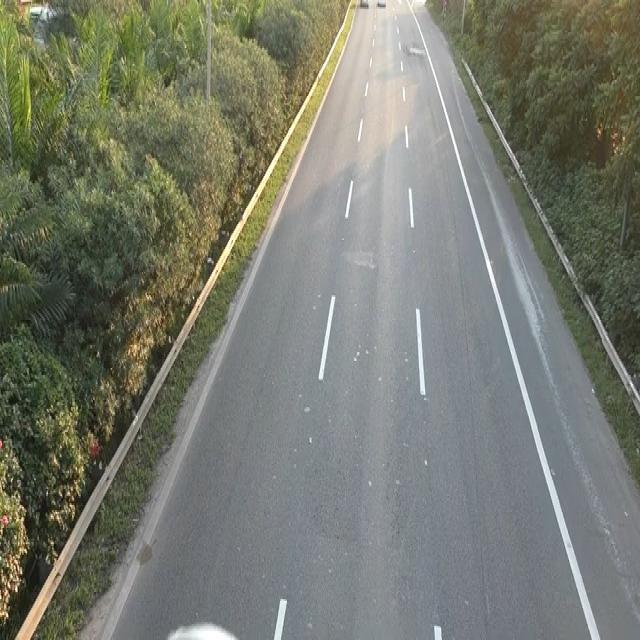bus: (358, 0, 369, 9), (376, 0, 386, 7)
